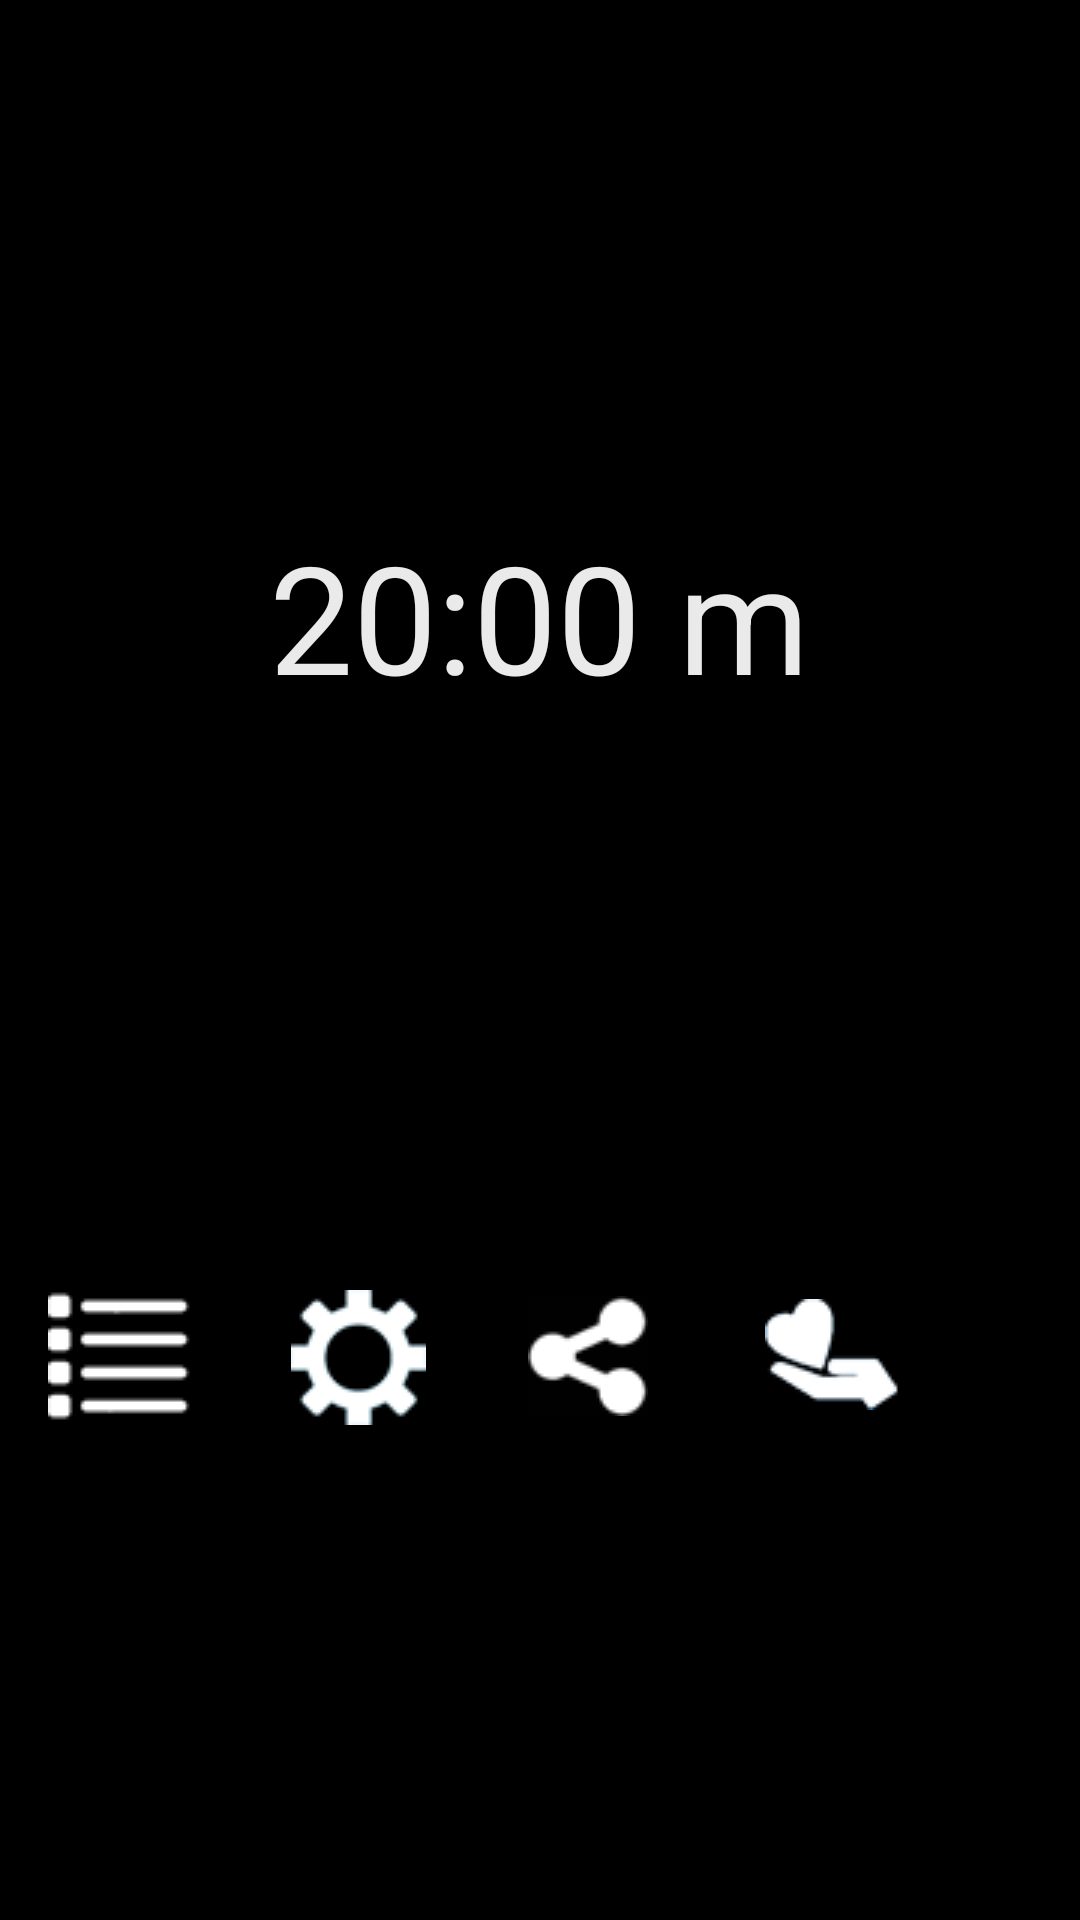

Point at icon controls on the screen. Image size 1080 x 1920, points as (x,y).
donate: (831,1354)
list mini: (119,1356)
setting: (358,1357)
share: (588,1356)
